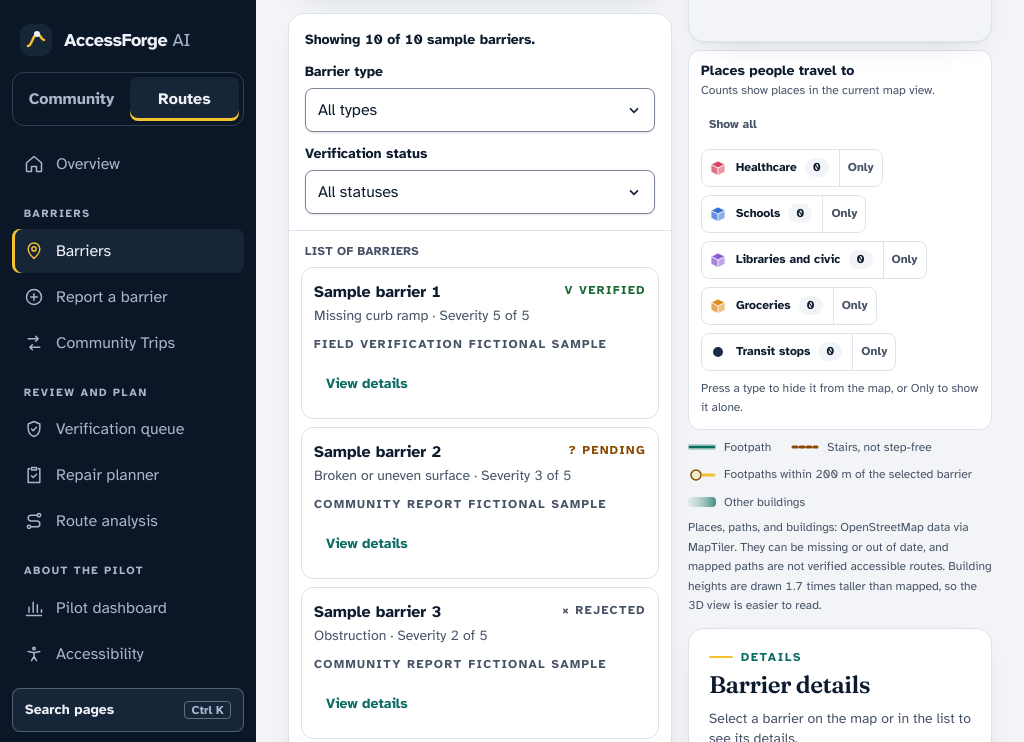
Barriers page › clears the details when the selected barrier is filtered out
Earlier steps of the test are not shown.
(page scrolled)
Click the button named "View details for Sample barrier 1": (367, 384) [314,362,420,406]
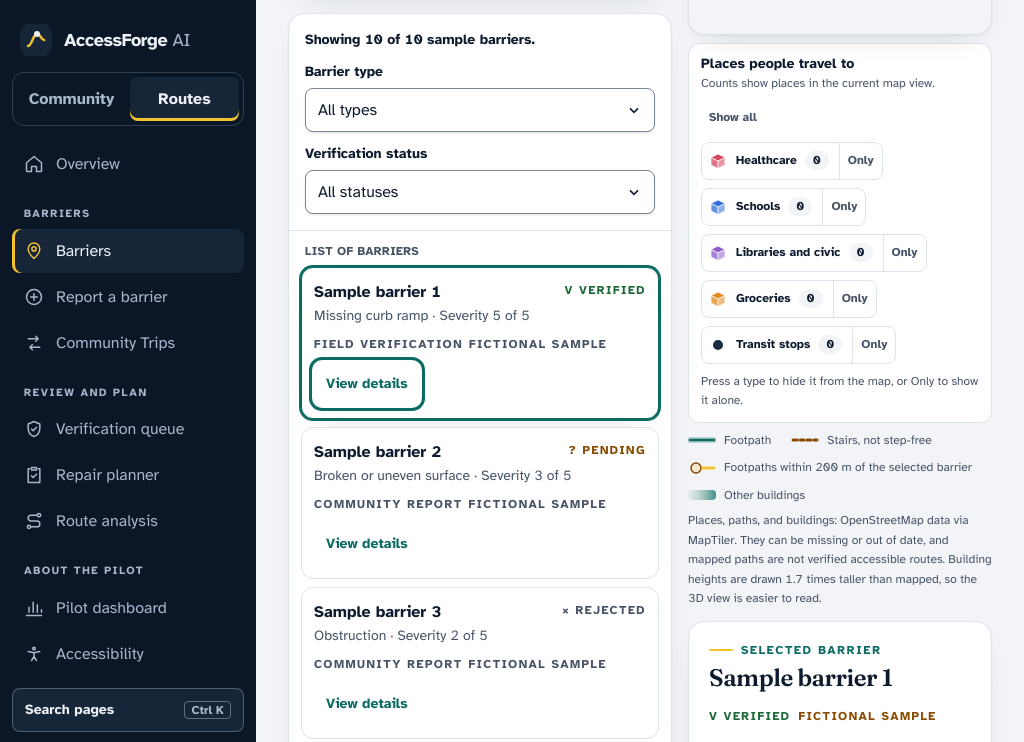
Select "Pending" in the dropdown labelled "Verification status": (480, 192) [305,170,655,214]
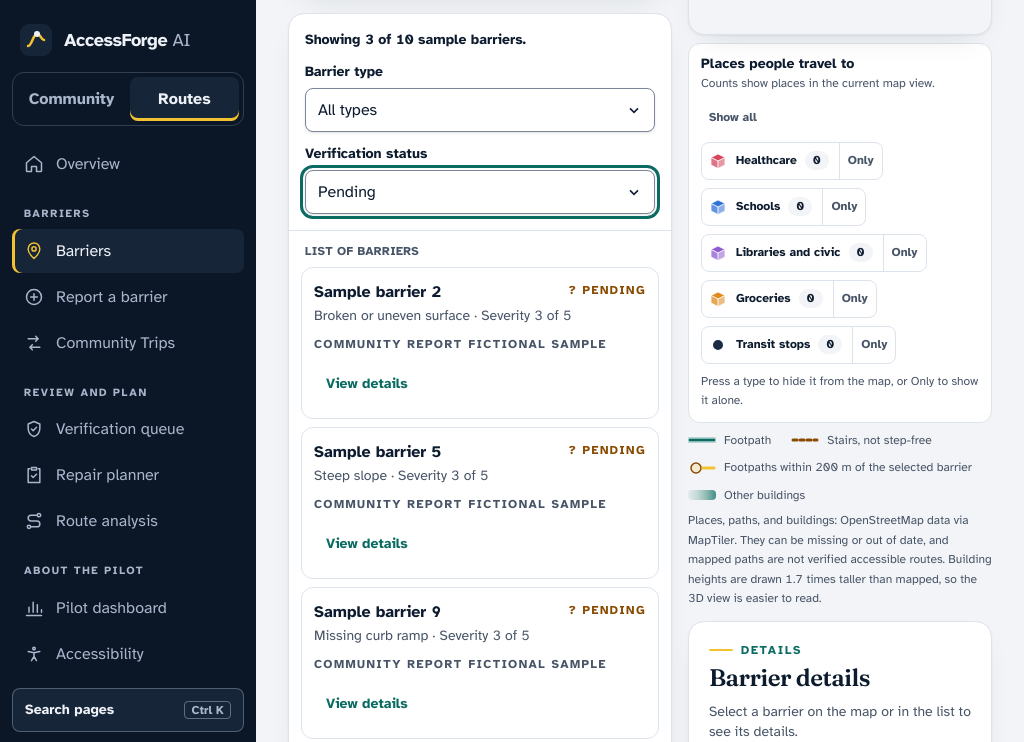
Now the element that starts with "Details" shows "Select a barrier on the map or in the list", box [709,702,971,740]
